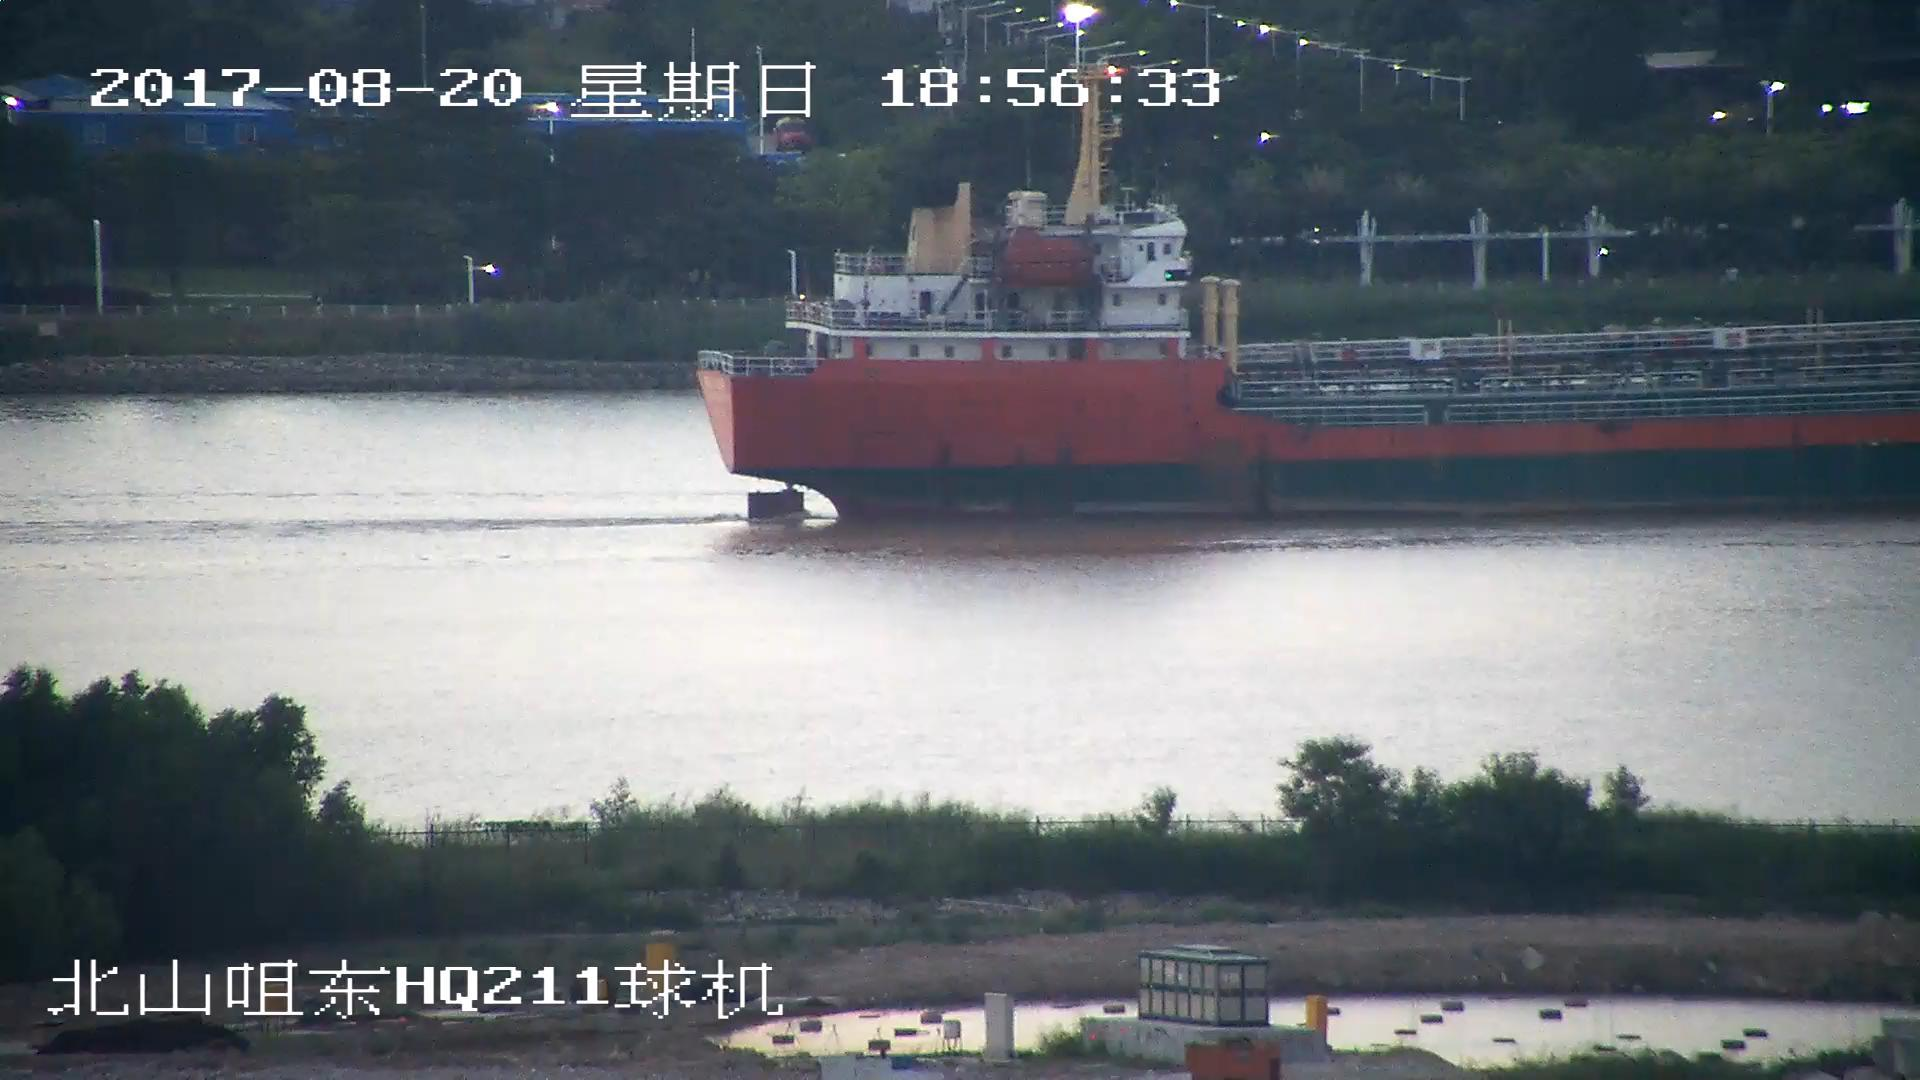Ship: (698, 129, 1920, 512)
